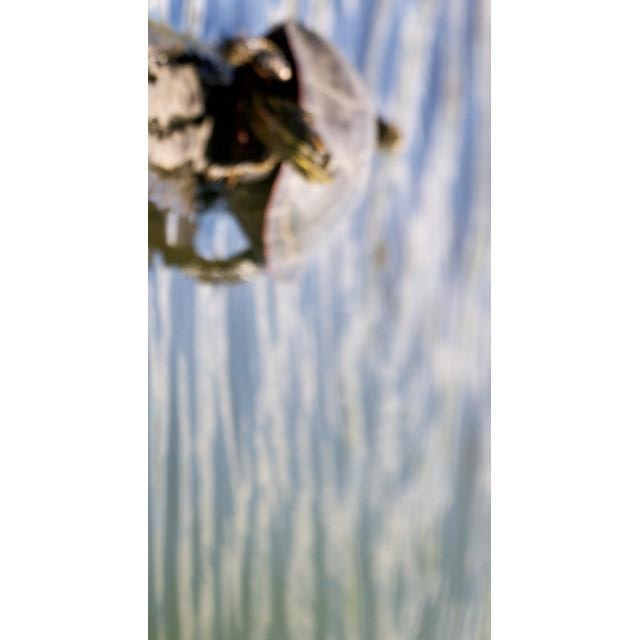turtle: (178, 23, 404, 284)
